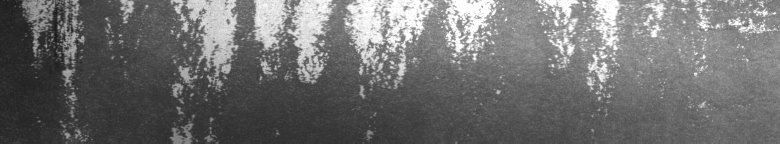kb: (14, 4, 776, 136)
